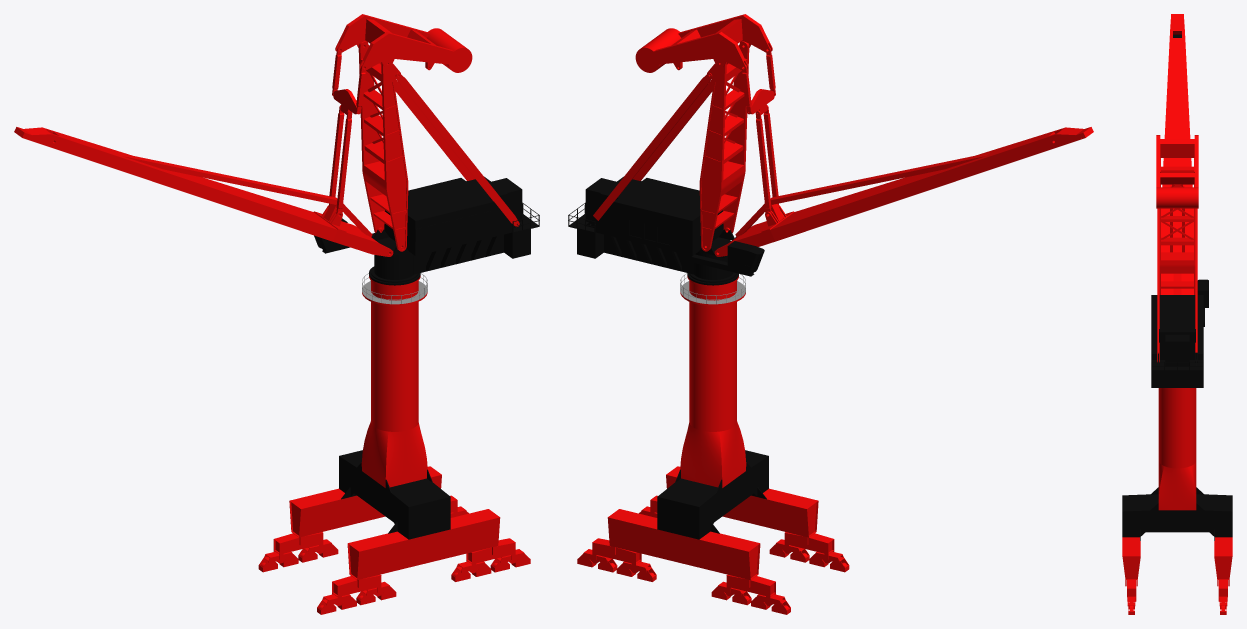
Rendered from PHB 001.fbx.
The picture shows the model from 3 angles, left to right: view 1: azimuth 30°, elevation 25°; view 2: azimuth 150°, elevation 25°; view 3: azimuth 270°, elevation 25°; orthographic projection. The views are drawn at different scales.
Parts seen in each view (by area): view 1: PHB 001; view 2: PHB 001; view 3: PHB 001.
Part boxes in pixels (x1,y1,x2,y2): PHB 001: [14, 14, 539, 614]; PHB 001: [568, 14, 1093, 614]; PHB 001: [1122, 14, 1232, 614].
Size of the model in its own units: 6016 by 1440 by 6240.
